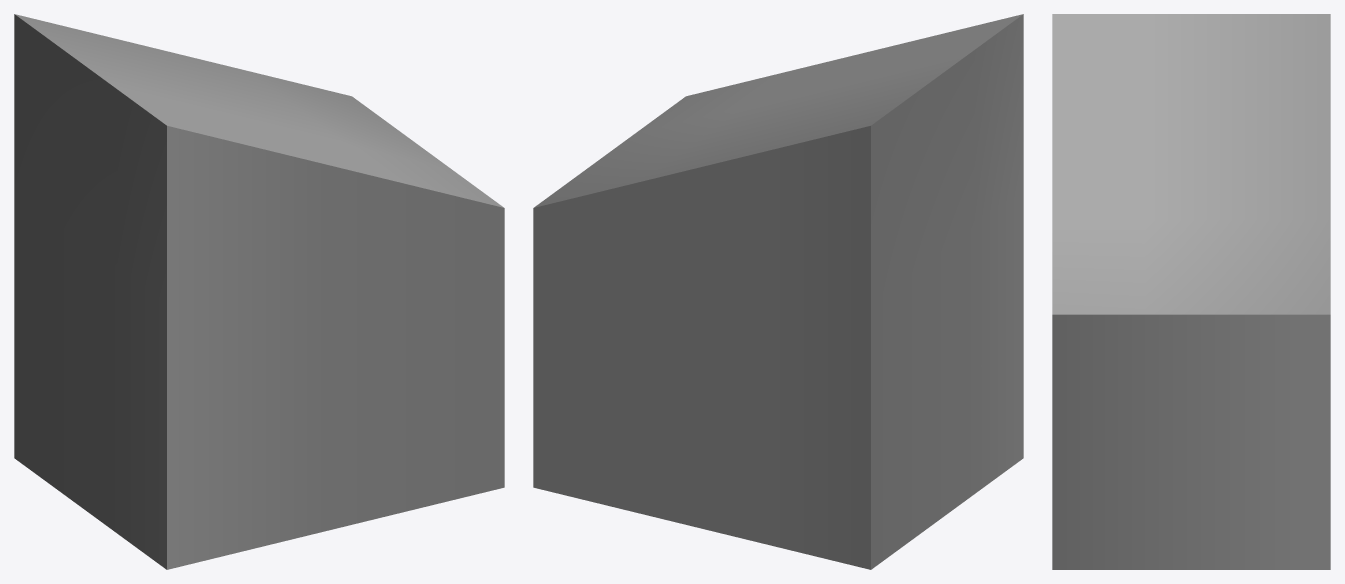
The model's file is prop_Obstacle_02.fbx.
3 views of the same model, side by side, from view 1: azimuth 30°, elevation 25°; view 2: azimuth 150°, elevation 25°; view 3: azimuth 270°, elevation 25° (orthographic). The views are drawn at different scales.
Visible parts, largest first — view 1: prop_Obstacle_02; view 2: prop_Obstacle_02; view 3: prop_Obstacle_02.
Boxes of the visible parts, left/top/right/bottom form: prop_Obstacle_02: left=14, top=14, right=504, bottom=569; prop_Obstacle_02: left=533, top=14, right=1023, bottom=569; prop_Obstacle_02: left=1052, top=14, right=1330, bottom=569.
Bounding box in the file's own units: 180 × 226 × 141.
